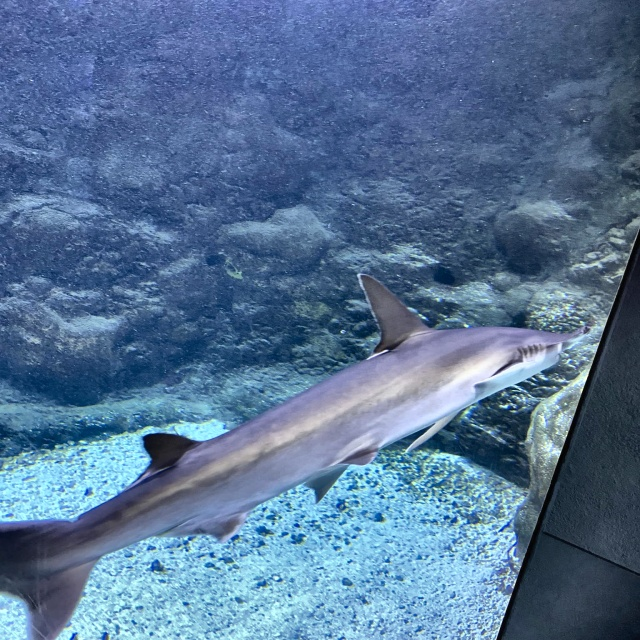shark: (0, 273, 589, 639)
